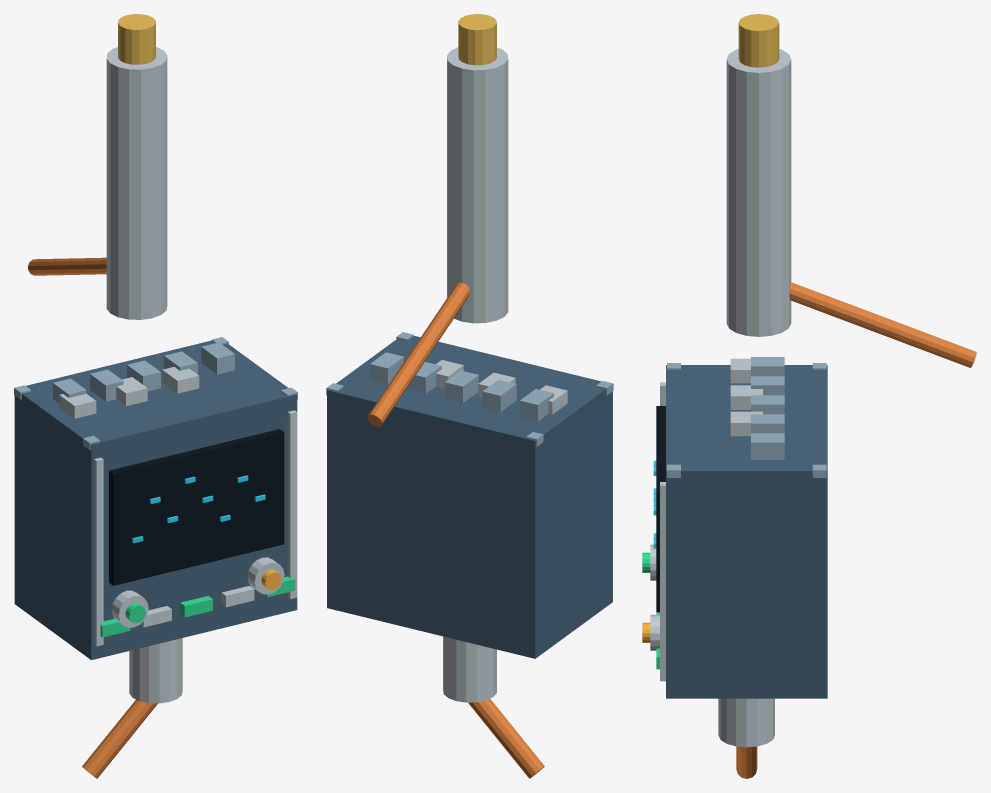
Rendered from 29_L76_ReferenceElectrodeProbe.fbx.
The picture shows the model from 3 angles, left to right: view 1: azimuth 30°, elevation 25°; view 2: azimuth 150°, elevation 25°; view 3: azimuth 270°, elevation 25°; orthographic projection. The views are drawn at different scales.
Visible parts, largest first — view 1: ReferenceElectrodeProbe, ReferenceElectrodeProbe_Part_0036, ReferenceElectrodeProbe_Part_0037, ReferenceElectrodeProbe_Part_0038; view 2: ReferenceElectrodeProbe, ReferenceElectrodeProbe_Part_0036, ReferenceElectrodeProbe_Part_0038, ReferenceElectrodeProbe_Part_0037; view 3: ReferenceElectrodeProbe, ReferenceElectrodeProbe_Part_0036, ReferenceElectrodeProbe_Part_0038, ReferenceElectrodeProbe_Part_0037.
Part boxes in pixels (box(x1,y1,x2,y2)): ReferenceElectrodeProbe: box(14, 337, 297, 778); ReferenceElectrodeProbe_Part_0036: box(106, 47, 167, 319); ReferenceElectrodeProbe_Part_0037: box(118, 14, 155, 64); ReferenceElectrodeProbe_Part_0038: box(28, 257, 106, 275); ReferenceElectrodeProbe: box(326, 332, 613, 778); ReferenceElectrodeProbe_Part_0036: box(447, 47, 508, 323); ReferenceElectrodeProbe_Part_0038: box(367, 282, 470, 426); ReferenceElectrodeProbe_Part_0037: box(458, 14, 496, 65); ReferenceElectrodeProbe: box(642, 357, 827, 778); ReferenceElectrodeProbe_Part_0036: box(726, 49, 791, 336); ReferenceElectrodeProbe_Part_0038: box(789, 282, 976, 367); ReferenceElectrodeProbe_Part_0037: box(738, 14, 779, 67).
Bounding box in the file's own units: 62.72 × 213 × 82.69.
